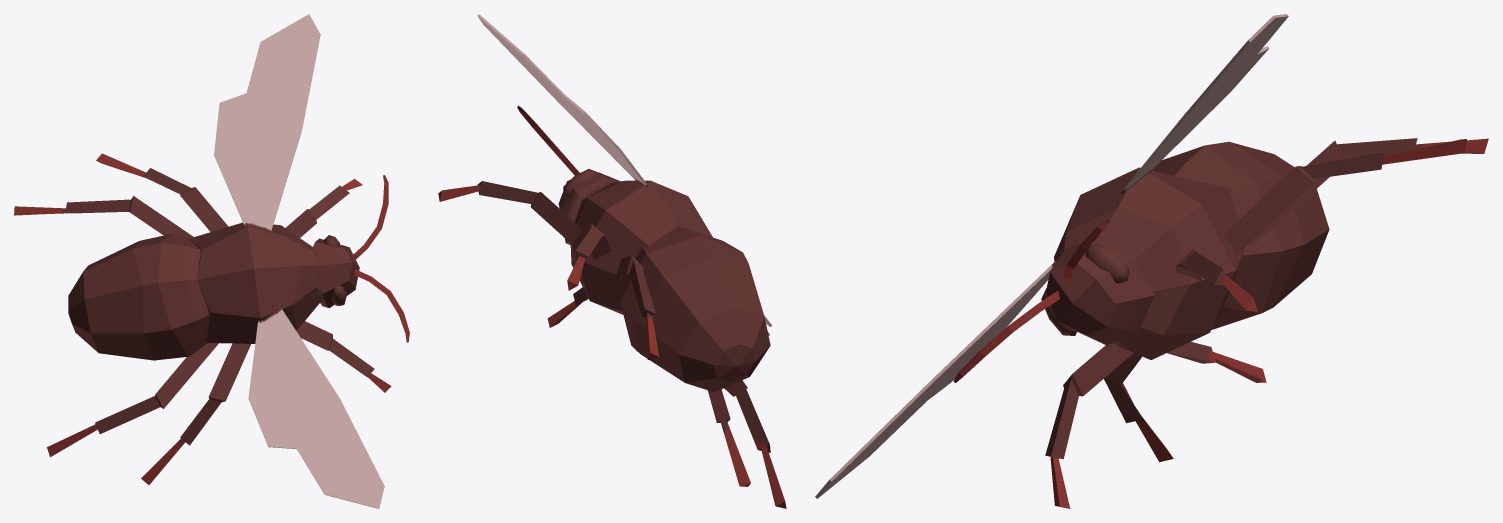
Rendered from fly2.glb.
The picture shows the model from 3 angles, left to right: view 1: azimuth 30°, elevation 25°; view 2: azimuth 150°, elevation 25°; view 3: azimuth 270°, elevation 25°; orthographic projection. The views are drawn at different scales.
Visible parts, largest first — view 1: mesh_id6, mesh_id5; view 2: mesh_id6, mesh_id5; view 3: mesh_id6, mesh_id5.
Boxes of the visible parts, x1,y1,x2,y2 form: mesh_id6: (14, 153, 409, 484); mesh_id5: (214, 14, 384, 508); mesh_id6: (438, 105, 786, 508); mesh_id5: (477, 14, 771, 335); mesh_id6: (953, 138, 1488, 508); mesh_id5: (815, 14, 1288, 498).
Bounding box in the file's own units: 0.3583 × 0.4356 × 0.4498.
Materials: 2 (2 with a texture image).
